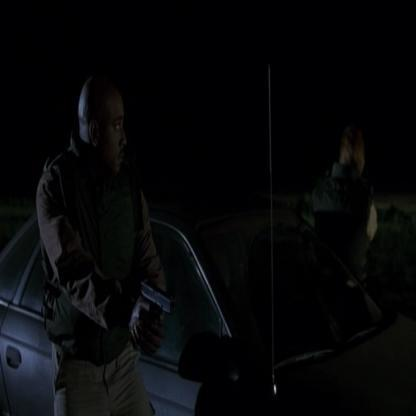gun: (131, 249, 184, 345)
